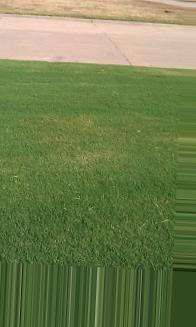patch: (53, 118, 96, 166)
